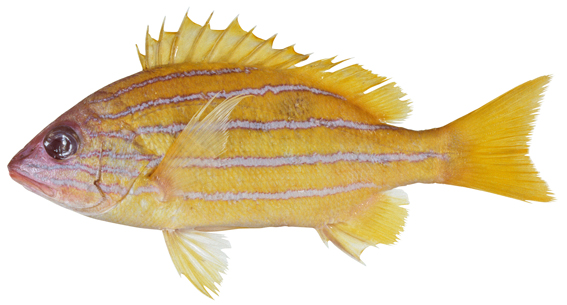fish: (7, 7, 556, 299)
